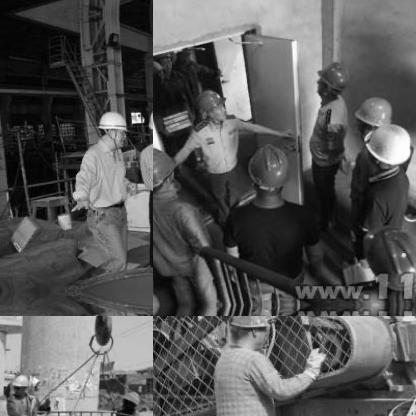Helmet: (359, 223, 415, 289), (361, 123, 413, 167), (246, 142, 290, 188), (227, 316, 270, 350), (314, 61, 350, 100), (354, 96, 392, 132), (95, 106, 129, 146), (153, 147, 177, 194), (195, 87, 227, 119), (10, 370, 30, 395), (120, 388, 138, 410), (145, 103, 152, 143)
